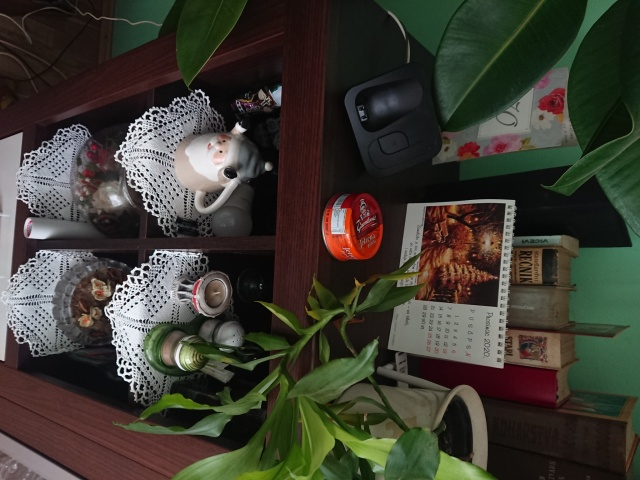Gavrilovic Pork Liver Pate 100g: (318, 189, 384, 263)
